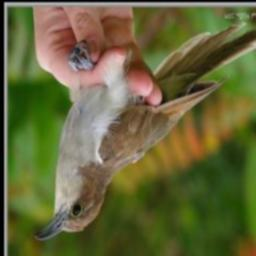Cuckoo: (35, 23, 256, 243)
